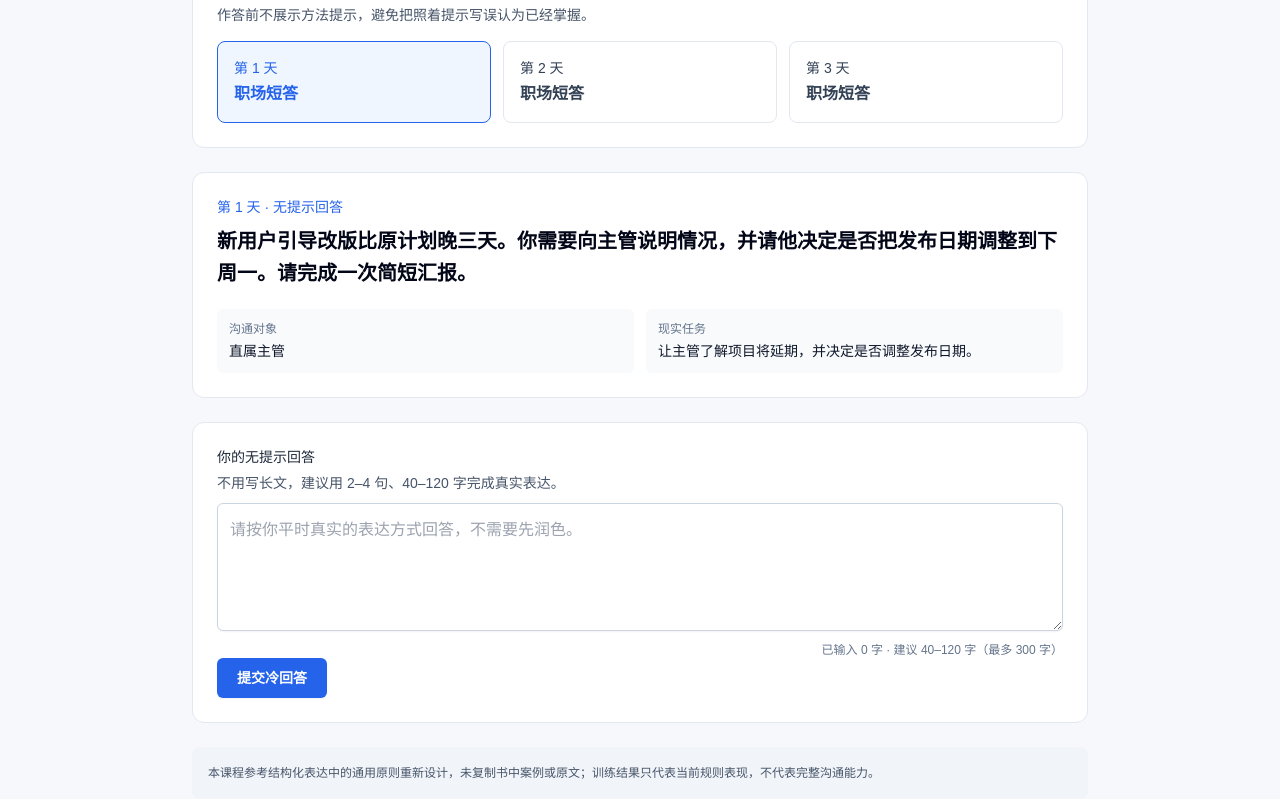
Module 10 classic structured-practice public route › 自检无需再次输入，并且未选择时会显示明确错误
(page scrolled)
Type "新用户引导改版比原计划晚三天，相关联调仍在进行。我建议把发布日期调整到下周一，请主管今天确认。" into the text box labelled "你的无提示回答". click: {"x": 640, "y": 567}
box: [217,503,1063,631]
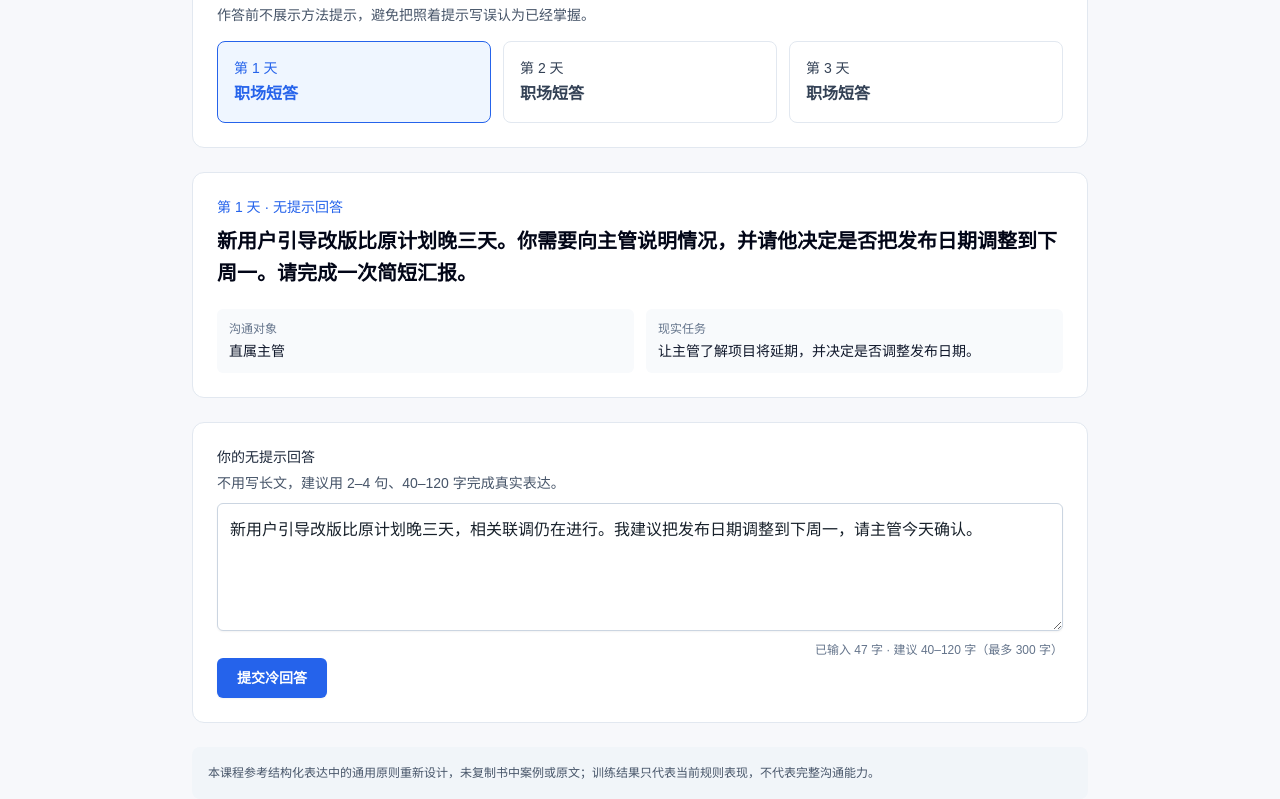
Click the button "提交冷回答". click: {"x": 272, "y": 678}
box: [217,658,327,698]
(page scrolled)
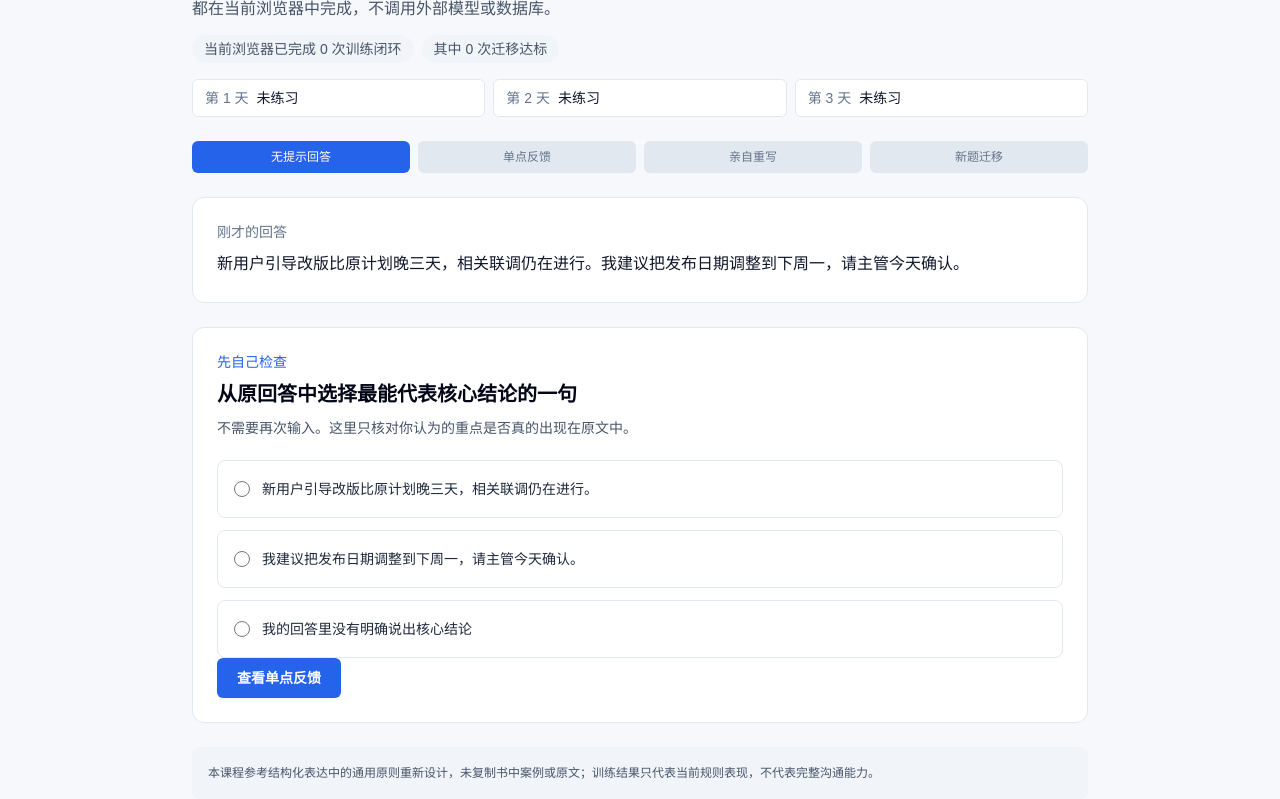
Expected: the element "从原回答中选择最能代表核心结论的一句" is shown, [217,380,1063,658]
Click the button "查看单点反馈". click: {"x": 279, "y": 678}
box: [217,658,341,698]
(page scrolled)
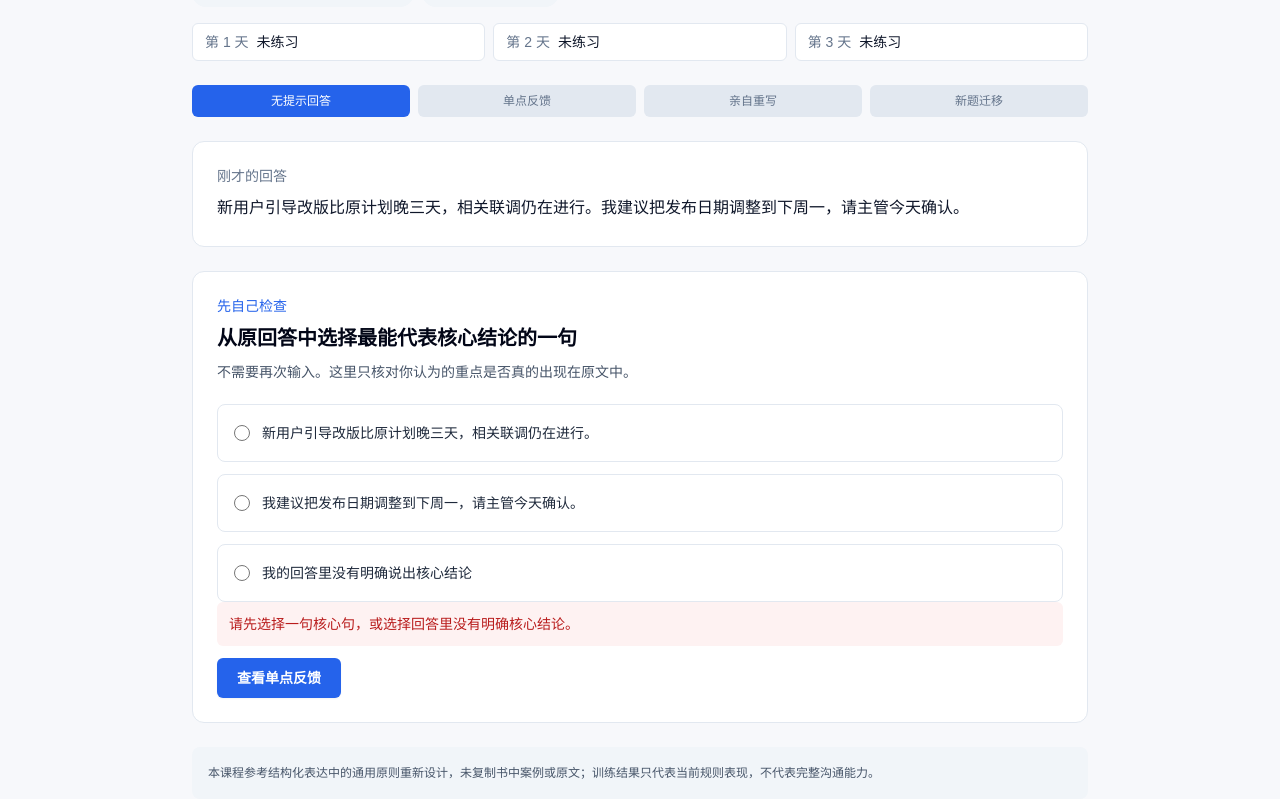
Expected: the message shows "请先选择一句核心句", [229,616,579,632]
